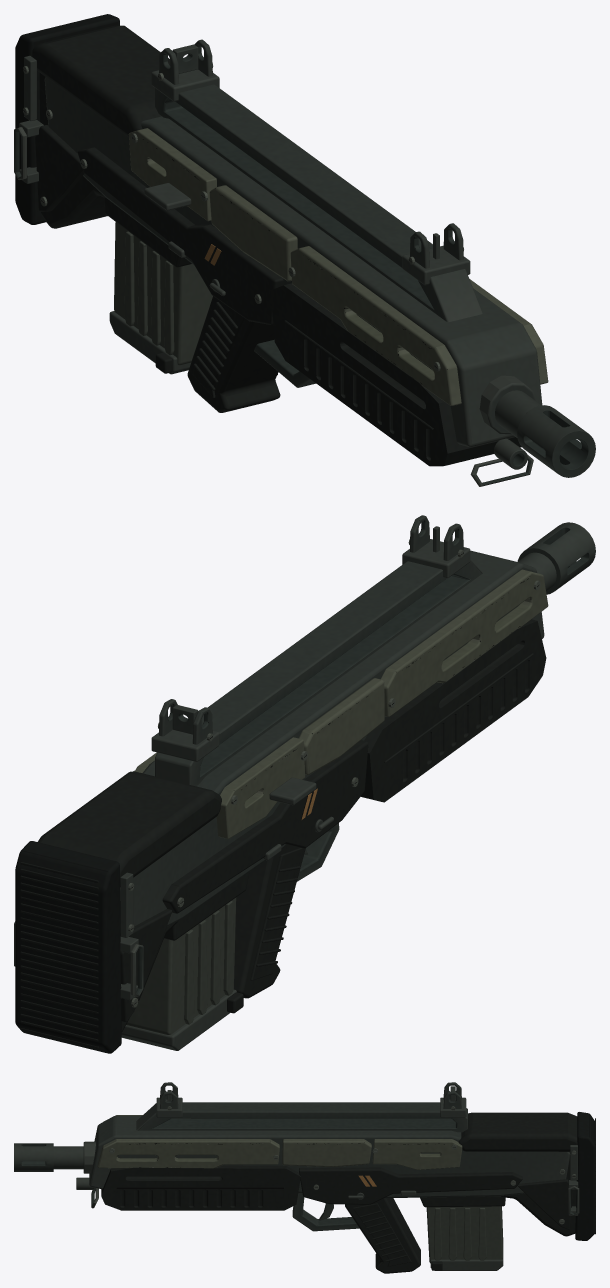
Rendered from MilitiaServiceRifle.fbx.
The picture shows the model from 3 angles, top to bottom: view 1: azimuth 30°, elevation 25°; view 2: azimuth 150°, elevation 25°; view 3: azimuth 270°, elevation 25°; orthographic projection. The views are drawn at different scales.
Visible parts, largest first — view 1: Body, Magazine, Grip, Bolt; view 2: Body, Magazine, Grip, Bolt; view 3: Body, Magazine, Grip.
Part boxes in pixels (x1=…): Body: x1=14, y1=14, x2=595, y2=486; Magazine: x1=109, y1=222, x2=212, y2=374; Grip: x1=187, y1=296, x2=280, y2=412; Bolt: x1=144, y1=183, x2=191, y2=210; Body: x1=14, y1=515, x2=595, y2=1053; Magazine: x1=121, y1=897, x2=243, y2=1050; Grip: x1=234, y1=844, x2=305, y2=998; Bolt: x1=269, y1=777, x2=316, y2=805; Body: x1=14, y1=1082, x2=595, y2=1240; Magazine: x1=426, y1=1206, x2=503, y2=1270; Grip: x1=345, y1=1198, x2=420, y2=1273.
Bounding box in the file's own units: 0.161 × 0.3589 × 1.05.
1 material, 1 textured.
